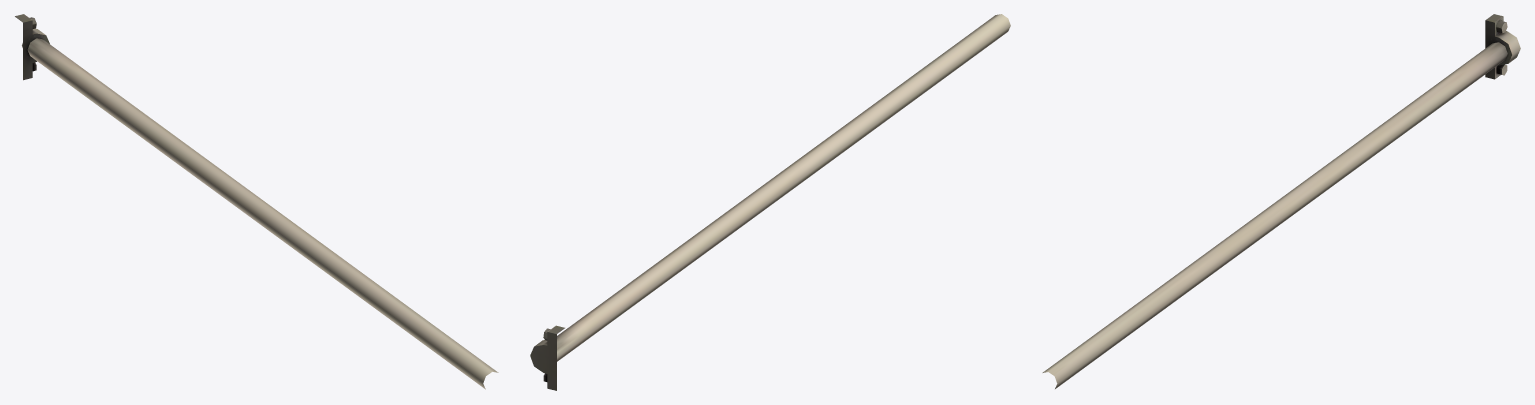
The picture shows the model from 3 angles, left to right: view 1: azimuth 30°, elevation 25°; view 2: azimuth 150°, elevation 25°; view 3: azimuth 330°, elevation 25°; orthographic projection.
Visible parts, largest first — view 1: body0_model0_lod0_mesh0; view 2: body0_model0_lod0_mesh0; view 3: body0_model0_lod0_mesh0.
Part boxes in pixels (bbox=[...]): body0_model0_lod0_mesh0: bbox=[15, 14, 498, 389]; body0_model0_lod0_mesh0: bbox=[530, 14, 1010, 390]; body0_model0_lod0_mesh0: bbox=[1042, 14, 1520, 388].
Size of the model in its own units: 4.33 by 8.75 by 128.
1 material, 1 textured.
